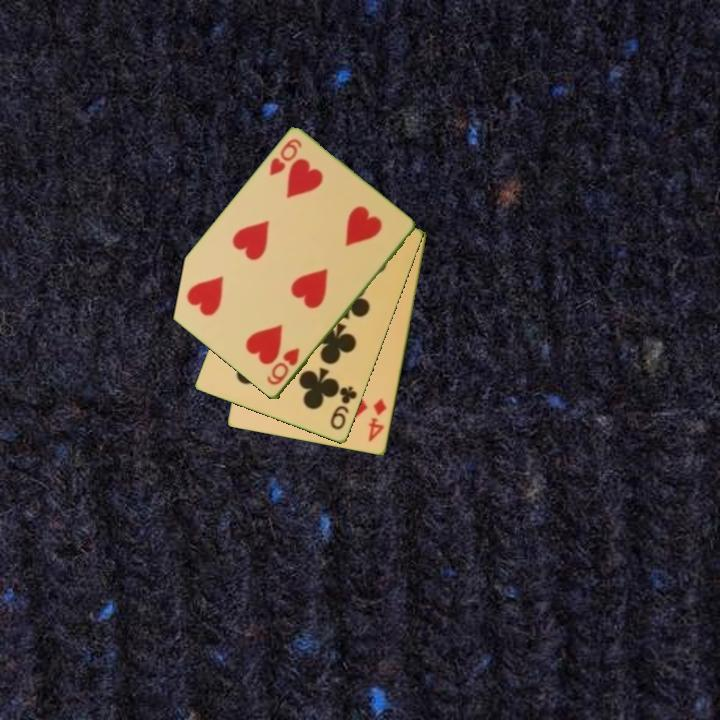4d: (365, 395, 390, 445)
6h: (263, 344, 303, 389), (266, 135, 305, 179)
9c: (327, 383, 360, 433)
